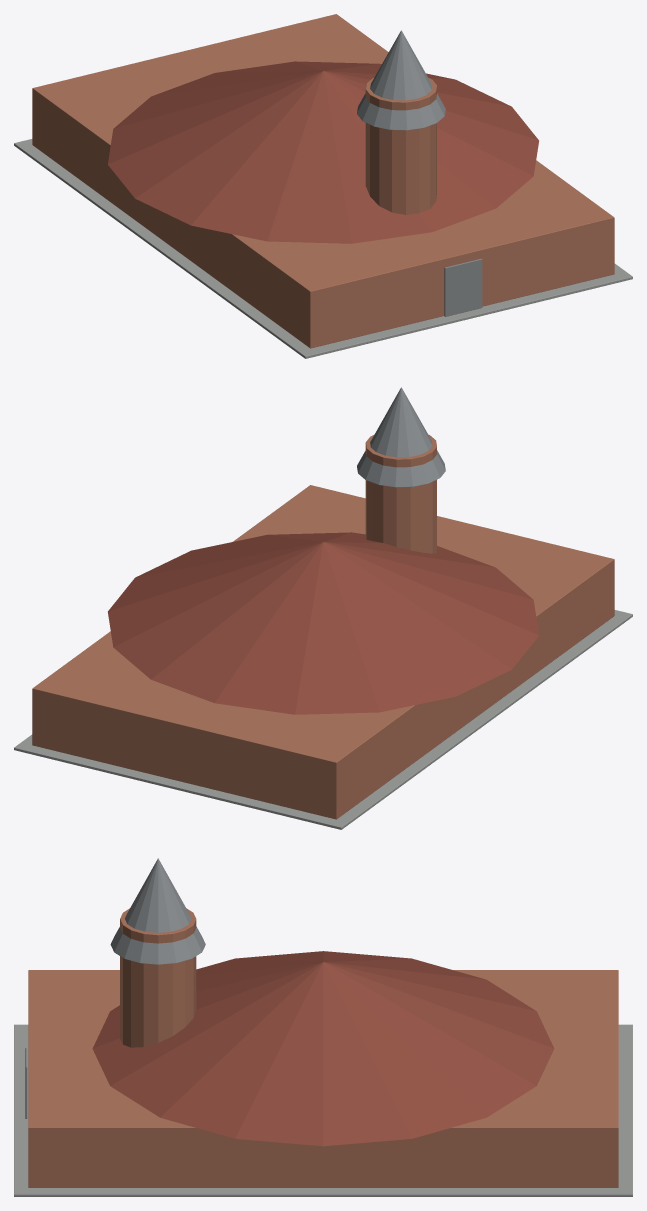
File: Building_Landmark_014.glb
3 views of the same model, one above another, from view 1: azimuth 30°, elevation 25°; view 2: azimuth 150°, elevation 25°; view 3: azimuth 270°, elevation 25° (orthographic). The views are drawn at different scales.
Visible parts, largest first — view 1: Building_Landmark_014; view 2: Building_Landmark_014; view 3: Building_Landmark_014.
Part boxes in pixels (x1,y1,x2,y2): Building_Landmark_014: (14, 14, 632, 358); Building_Landmark_014: (14, 387, 632, 829); Building_Landmark_014: (14, 858, 632, 1196).
Size of the model in its own units: 24.15 by 14.66 by 32.36.
